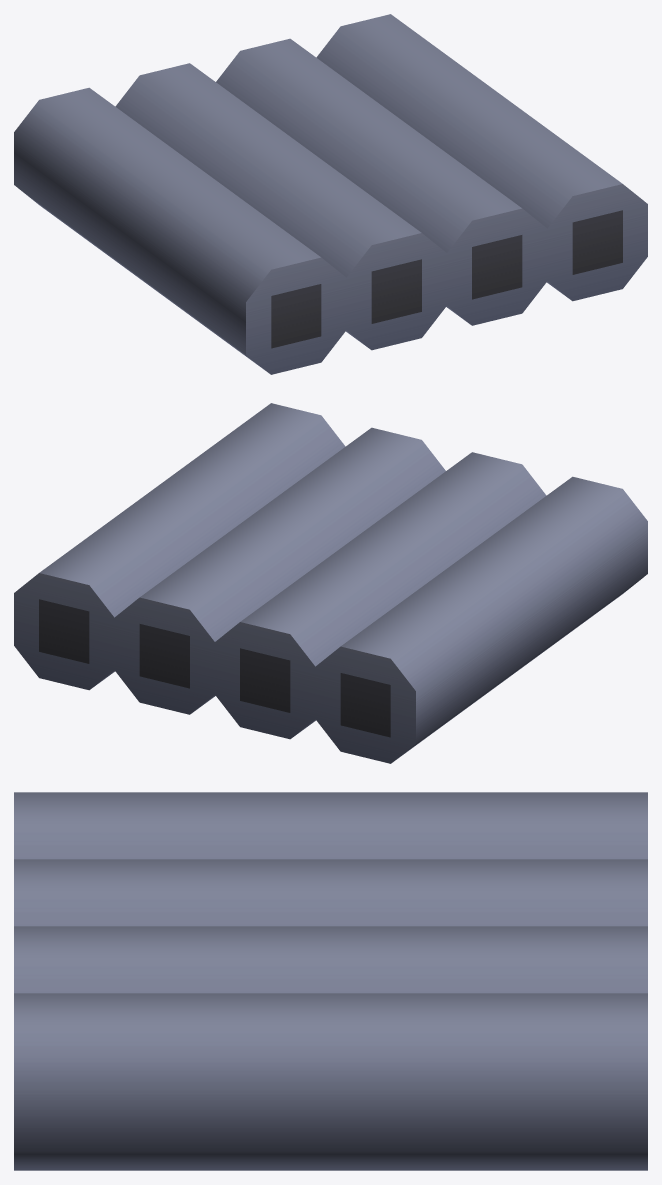
The picture shows the model from 3 angles, top to bottom: view 1: azimuth 30°, elevation 25°; view 2: azimuth 150°, elevation 25°; view 3: azimuth 270°, elevation 25°; orthographic projection. The views are drawn at different scales.
Visible parts, largest first — view 1: conveyor_bars; view 2: conveyor_bars; view 3: conveyor_bars.
Boxes of the visible parts, <box> form: conveyor_bars: <box>14,14,647,374</box>; conveyor_bars: <box>14,403,647,763</box>; conveyor_bars: <box>14,792,647,1170</box>.
Bounding box in the file's own units: 1 × 0.25 × 1.
1 material, 1 textured.
